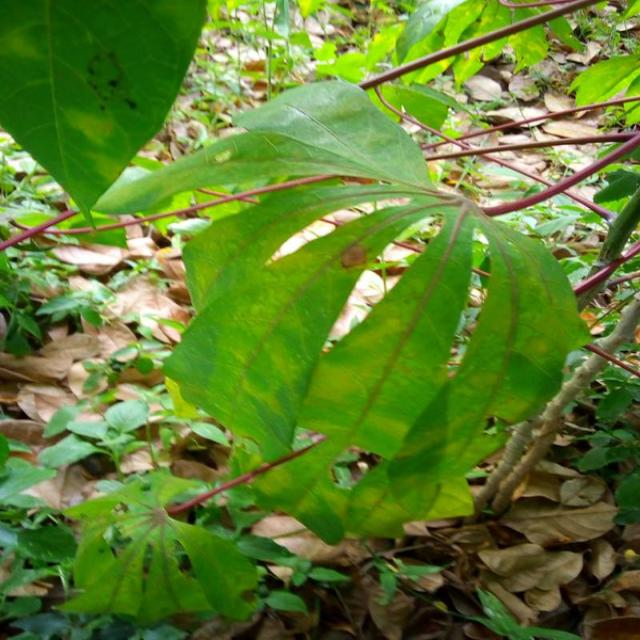cassava leaf: (164, 174, 590, 545), (0, 0, 208, 237)
